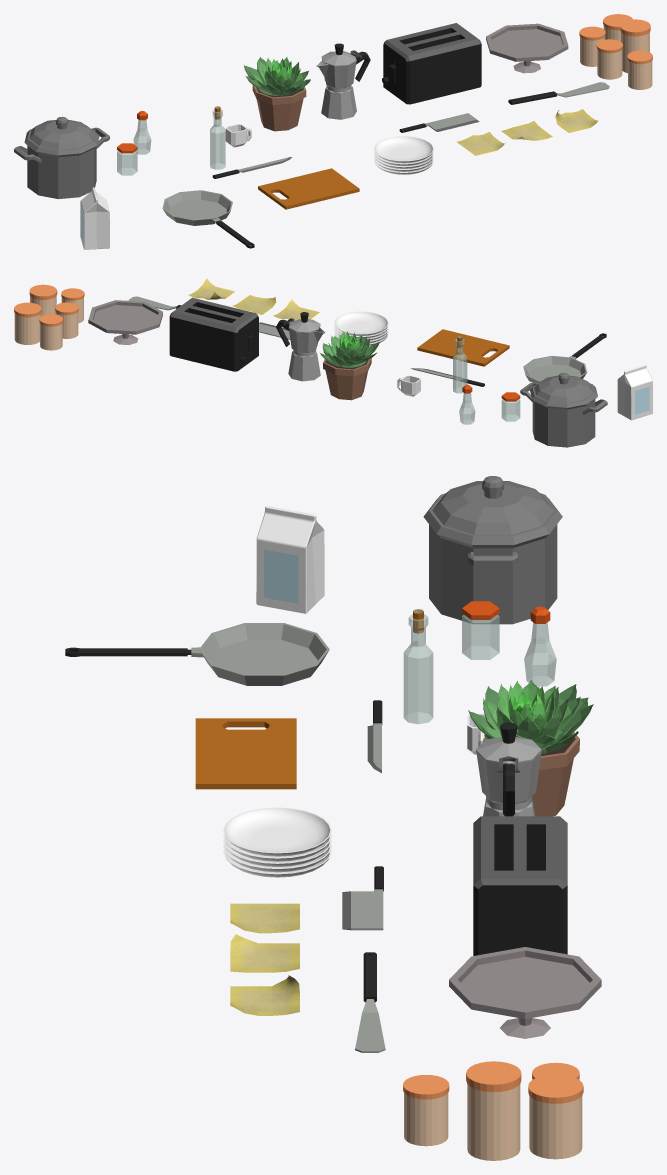
File: Assets Ale cocina.fbx
The picture shows the model from 3 angles, top to bottom: view 1: azimuth 30°, elevation 25°; view 2: azimuth 150°, elevation 25°; view 3: azimuth 270°, elevation 25°; orthographic projection. The views are drawn at different scales.
Visible parts, largest first — view 1: toaster, pot, Wood jar, plant, cake stand, coffe, table, frying pan, Stack of plate, Milk cartoon.001, jar3, note3 (+8 smaller); view 2: toaster, pot, Wood jar, plant, cake stand, coffe, table, Milk cartoon.001, frying pan, Stack of plate, jar3, jar1 (+7 smaller); view 3: pot, Wood jar, toaster, cake stand, plant, frying pan, table, Milk cartoon.001, Stack of plate, coffe, jar3, note2 (+6 smaller).
Part boxes in pixels (<box>): toaster: <box>382,23,481,104</box>; pot: <box>14,116,109,199</box>; Wood jar: <box>579,14,652,89</box>; plant: <box>244,57,310,131</box>; cake stand: <box>486,23,568,73</box>; coffe: <box>316,43,370,119</box>; table: <box>258,168,359,209</box>; frying pan: <box>162,190,254,248</box>; Stack of plate: <box>374,136,433,174</box>; Milk cartoon.001: <box>80,187,109,249</box>; jar3: <box>210,106,225,169</box>; note3: <box>555,109,598,132</box>; toaster: <box>169,297,258,371</box>; pot: <box>520,373,607,447</box>; Wood jar: <box>14,284,84,350</box>; plant: <box>320,331,379,400</box>; cake stand: <box>88,300,162,344</box>; coffe: <box>276,312,325,381</box>; table: <box>417,329,509,366</box>; Milk cartoon.001: <box>617,365,652,420</box>; frying pan: <box>523,333,606,383</box>; Stack of plate: <box>334,311,388,345</box>; jar3: <box>453,336,467,393</box>; jar1: <box>501,392,520,421</box>; pot: <box>423,476,562,624</box>; Wood jar: <box>403,1061,583,1160</box>; toaster: <box>473,816,567,955</box>; cake stand: <box>449,947,601,1038</box>; plant: <box>468,680,593,816</box>; frying pan: <box>65,623,329,685</box>; table: <box>195,718,296,789</box>; Milk cartoon.001: <box>256,506,324,613</box>; Stack of plate: <box>223,807,331,877</box>; coffe: <box>476,722,541,816</box>; jar3: <box>403,609,433,724</box>; note2: <box>230,934,299,972</box>.
Size of the model in its own units: 1152 by 160 by 468.
25 materials, 4 textured.
